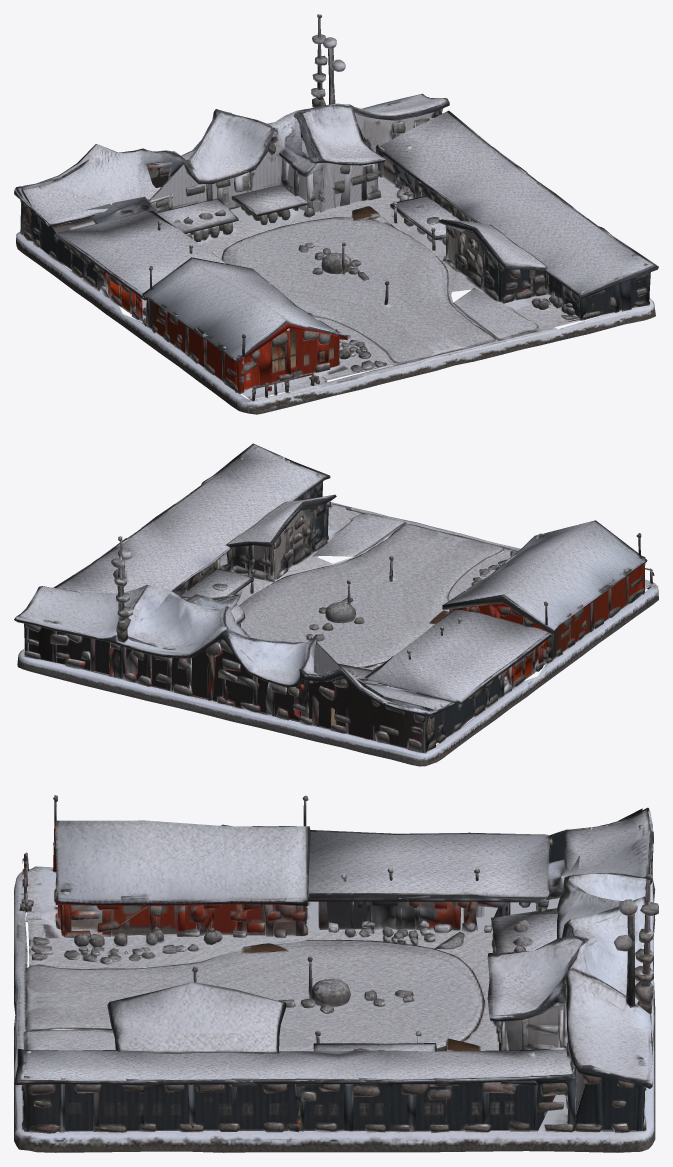
The model's file is longyearbyenbuildings2-web.glb.
3 views of the same model, one above another, from view 1: azimuth 30°, elevation 25°; view 2: azimuth 150°, elevation 25°; view 3: azimuth 270°, elevation 25° (orthographic). The views are drawn at different scales.
Bounding box in the file's own units: 1 × 0.3564 × 1.
1 material, 1 textured.
